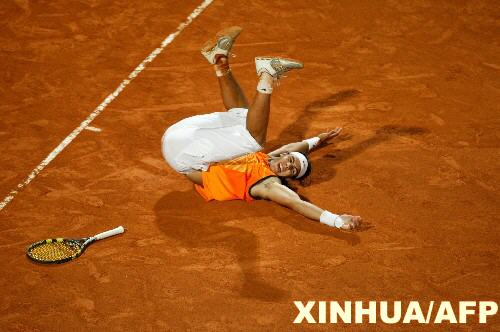down: (152, 24, 369, 240)
